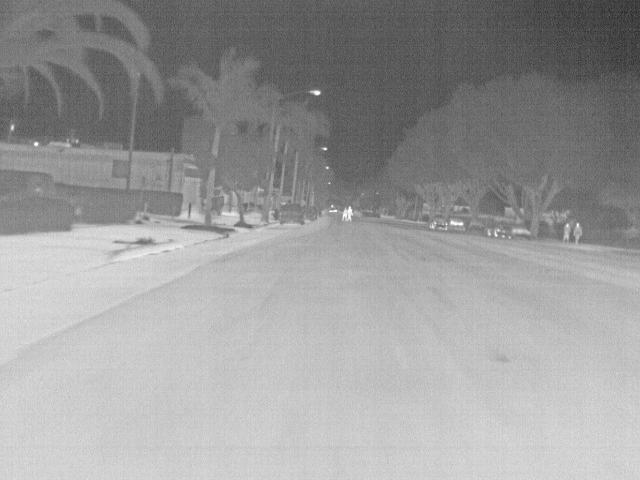car: (278, 203, 305, 225), (485, 221, 513, 239), (511, 222, 532, 242), (446, 216, 466, 232), (430, 214, 446, 228), (305, 206, 318, 222), (328, 204, 339, 214)
person: (571, 219, 582, 243), (562, 221, 572, 245), (630, 268, 640, 288), (348, 206, 354, 222), (343, 208, 348, 221)
